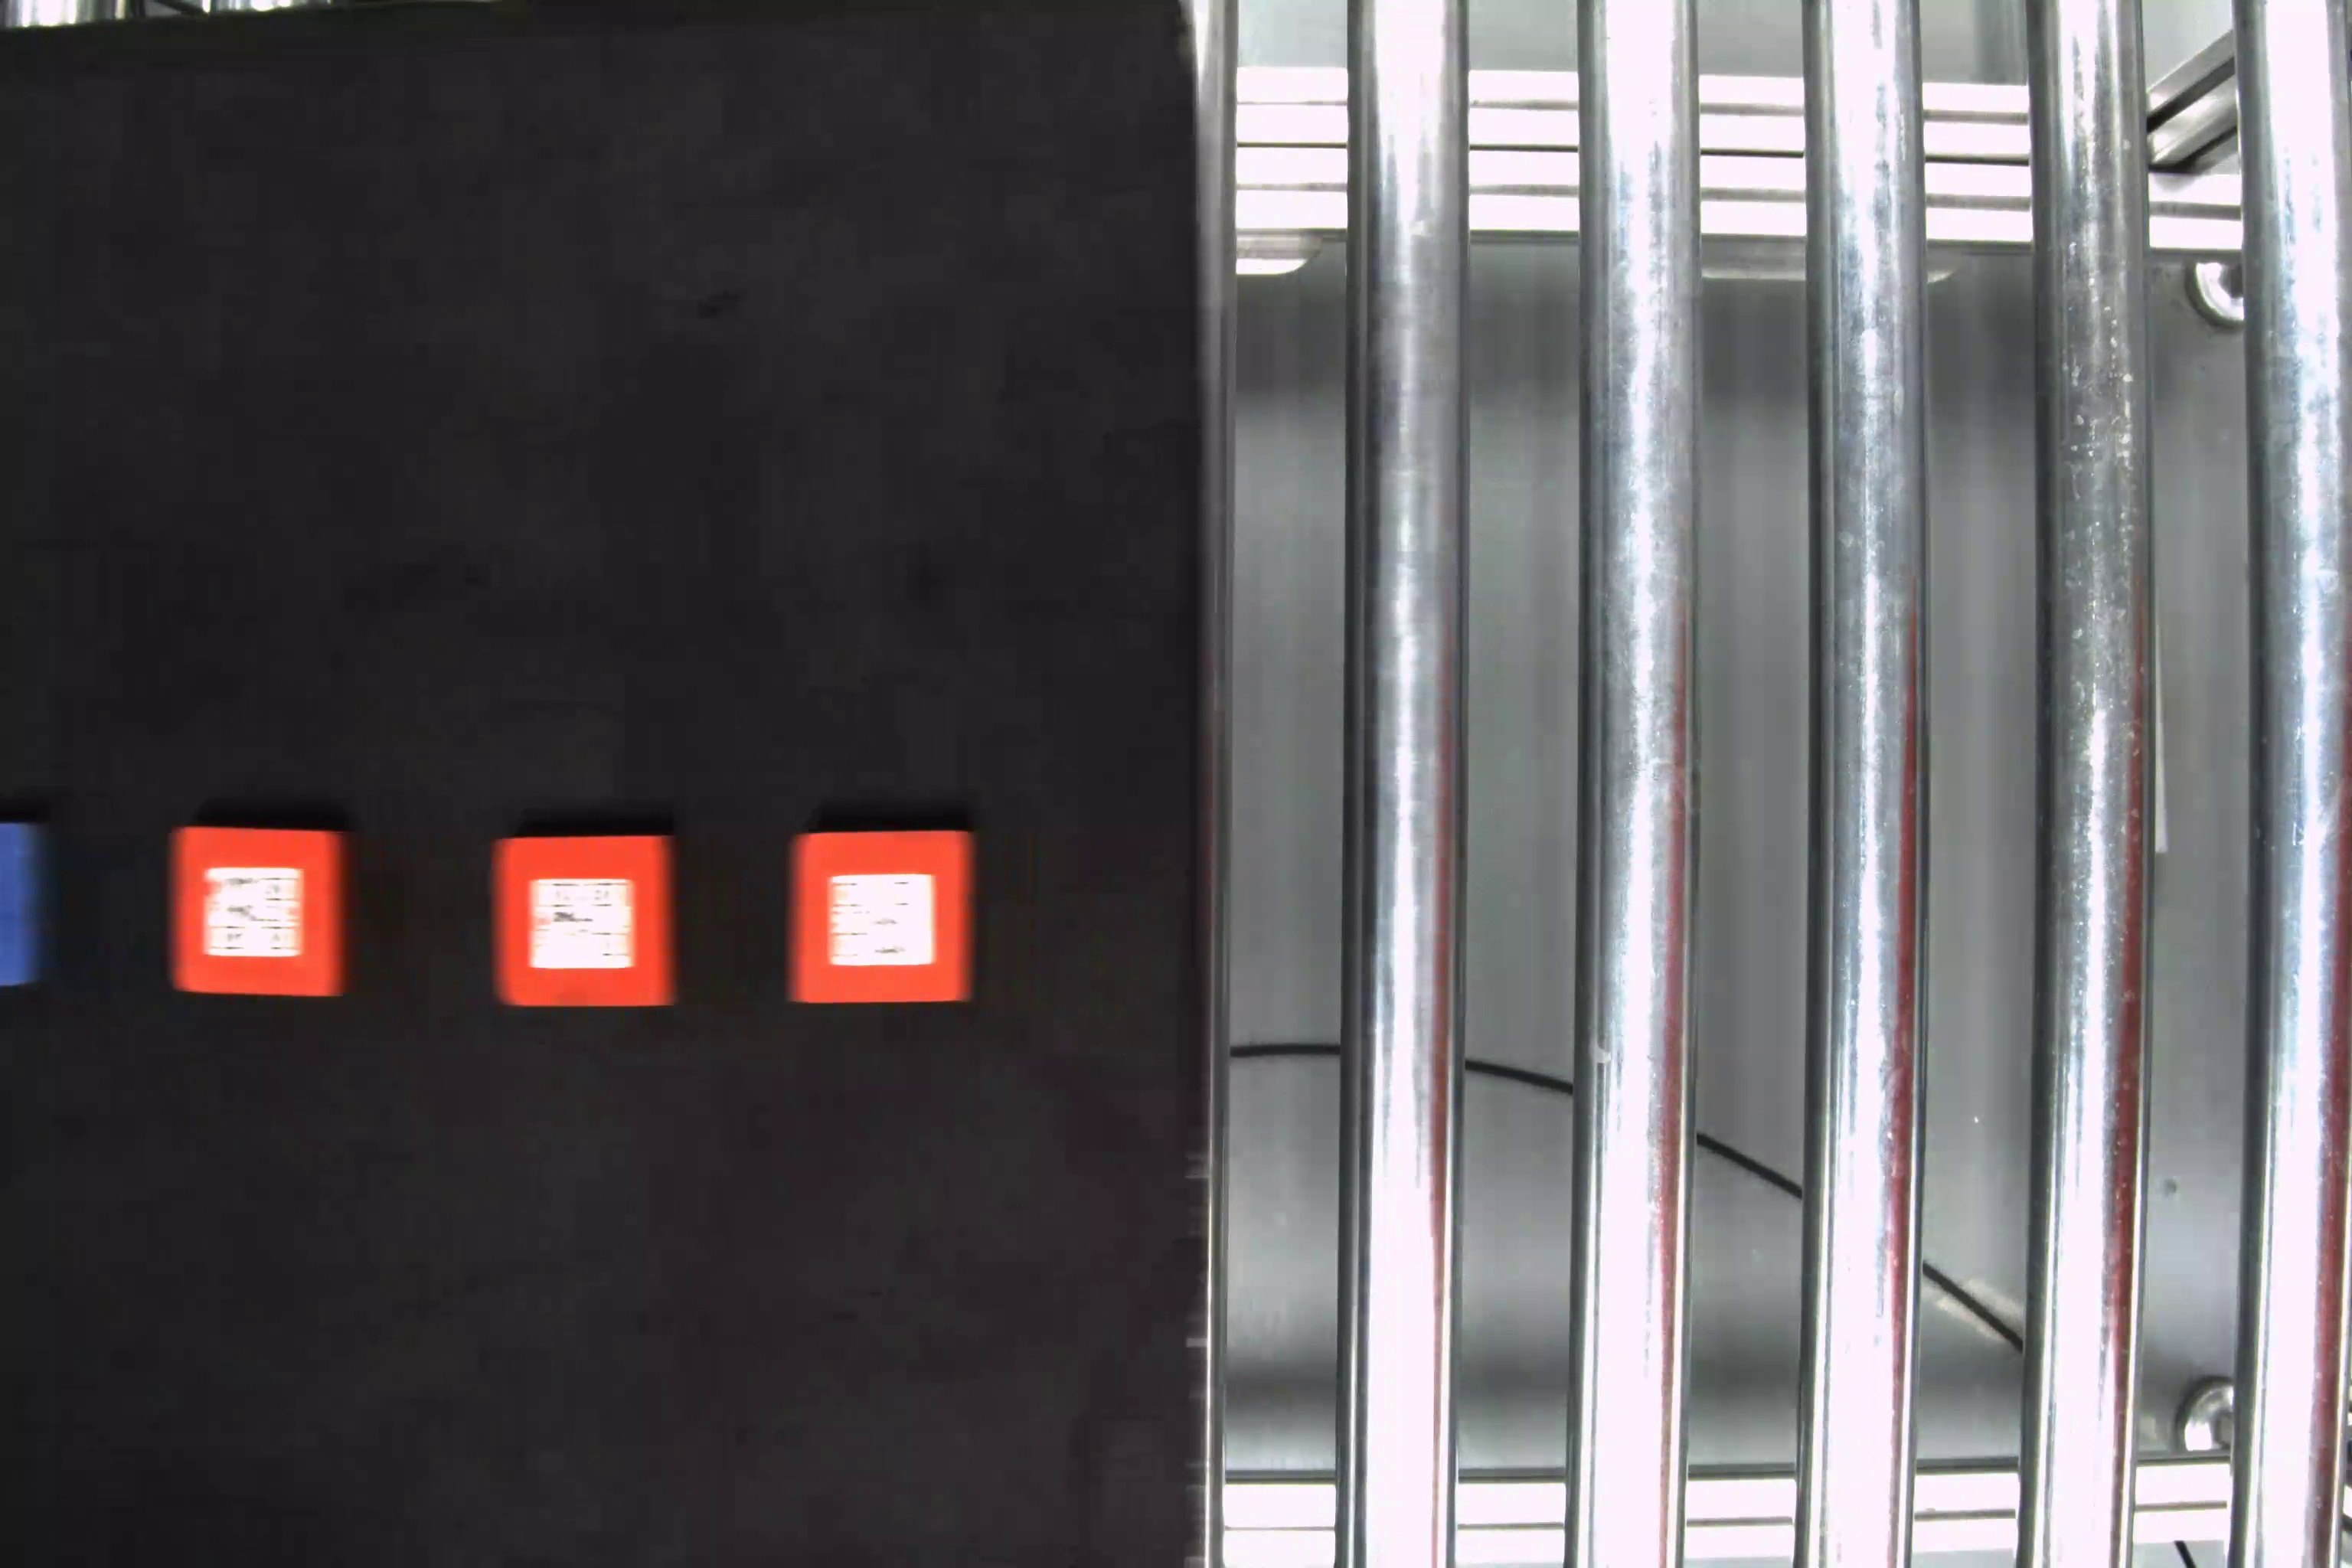wood: (782, 821, 987, 1013), (166, 819, 359, 1004), (485, 831, 682, 1011)
